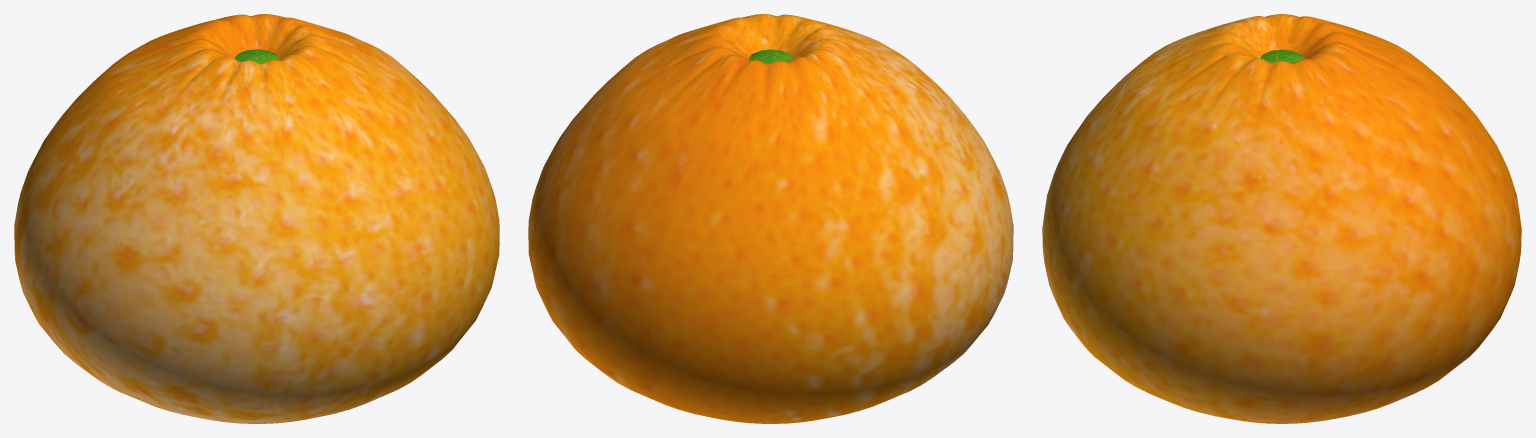
The model's file is Tangerine.FBX.
3 views of the same model, side by side, from view 1: azimuth 30°, elevation 25°; view 2: azimuth 150°, elevation 25°; view 3: azimuth 270°, elevation 25° (orthographic).
Visible parts, largest first — view 1: Sphere001; view 2: Sphere001, OilTank001; view 3: Sphere001.
Part boxes in pixels (box(x1,y1,x2,y2)): Sphere001: box(14, 14, 499, 423); Sphere001: box(528, 14, 1013, 423); OilTank001: box(749, 49, 792, 63); Sphere001: box(1042, 14, 1521, 423).
Size of the model in its own units: 28.34 by 23.17 by 27.89.
2 materials, 2 textured.
